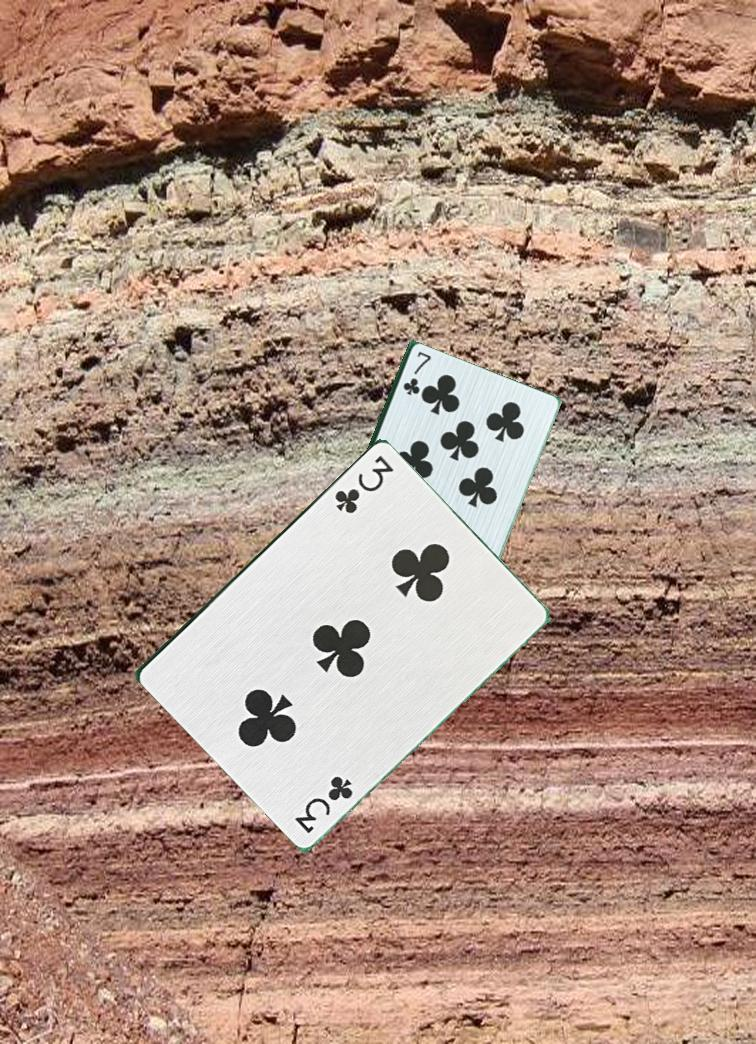3c: (291, 763, 360, 836), (330, 451, 396, 524)
7c: (400, 348, 432, 399)
